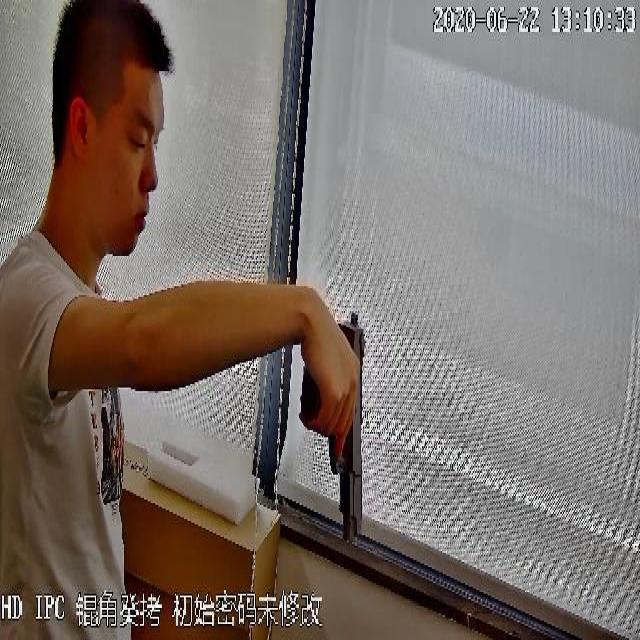pistol: (298, 302, 369, 546)
